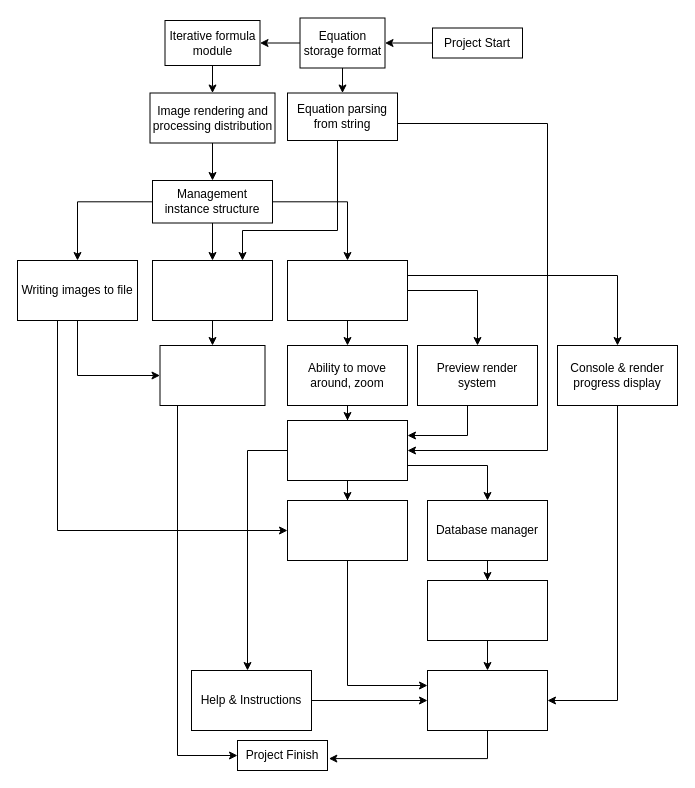
Image size: 695x788. Some labels were removed from this diagram. Each missing label, with the box of its shape:
Command line IO: (152, 260, 272, 320)
Completed base (CLI) module: (159, 344, 265, 406)
Completed GUI module: (426, 670, 548, 730)
Exporting images: (286, 500, 408, 560)
Exporting render states: (426, 580, 548, 640)
GUI displays rendered fractal: (286, 260, 408, 320)
Other controls (eval limit, equation input, equation presets): (286, 420, 408, 480)
